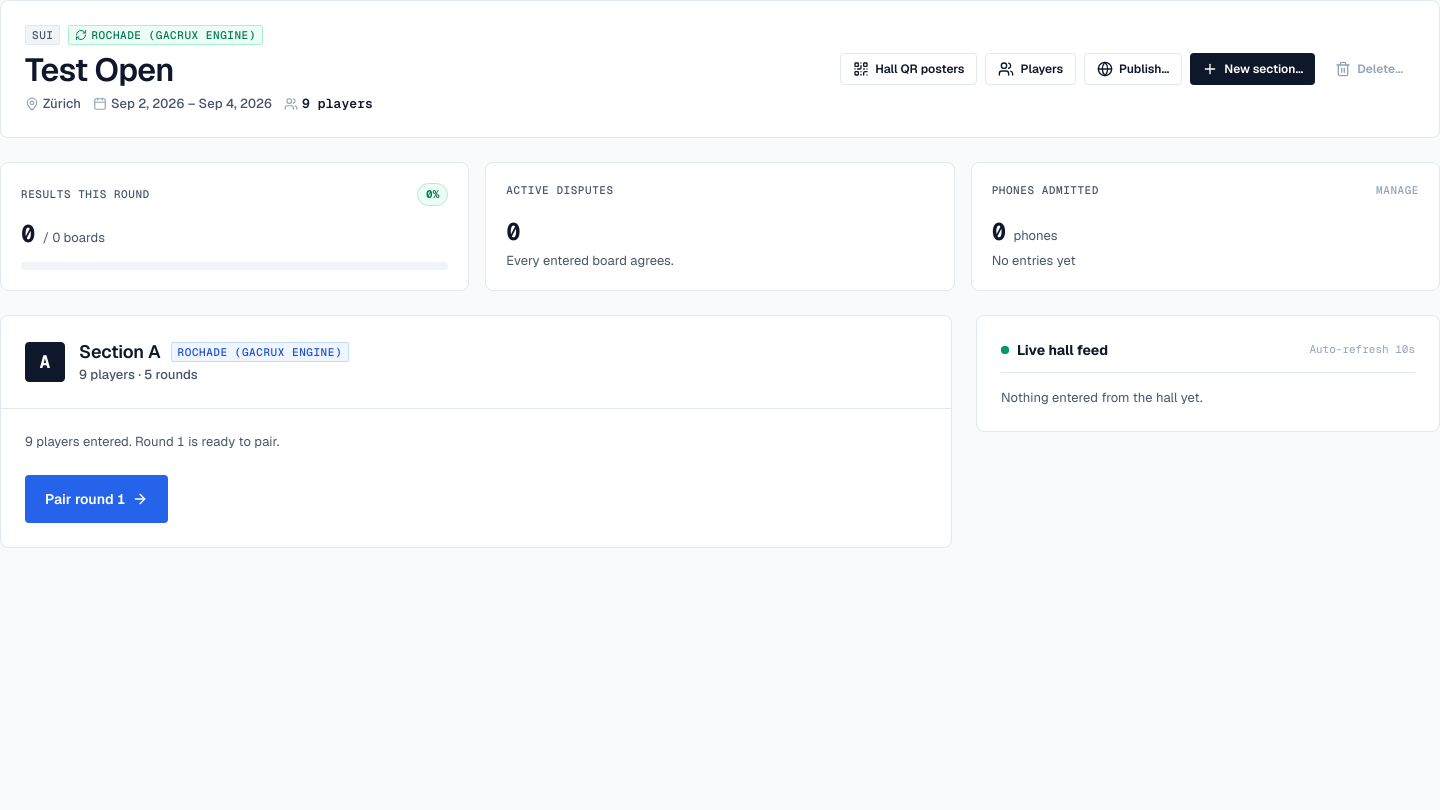
TournamentHome for a tournament Rochade pairs itself › offers players and a new section instead of an import, and pairs from the card
The image size is (1440, 810).
Check: the heading "Test Open" is shown, box [25,49,174,90]
Click the button "Pair round 1".
click(96, 498)  # box [25,474,168,522]
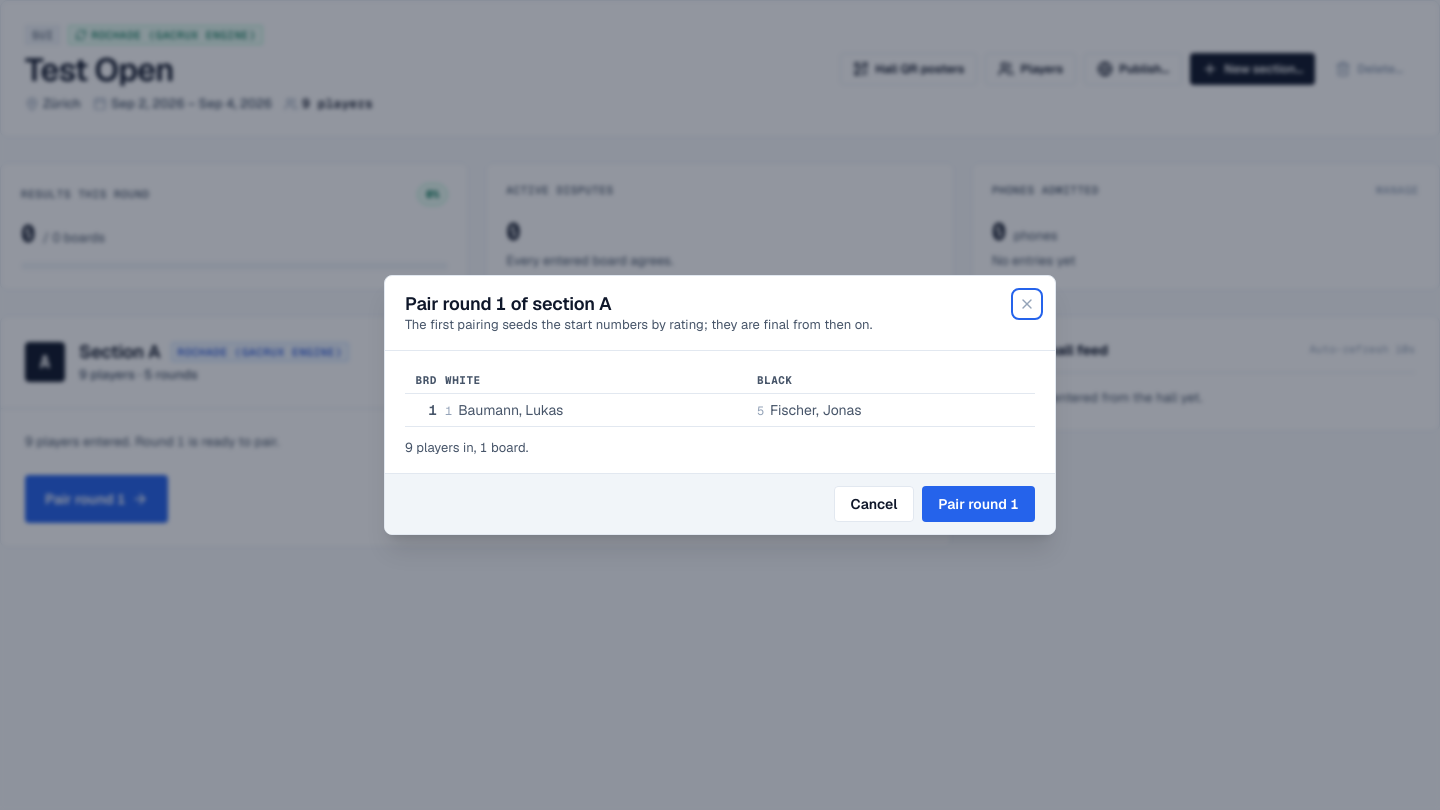
Check: the text "Baumann, Lukas" is shown, box [458,401,563,419]
